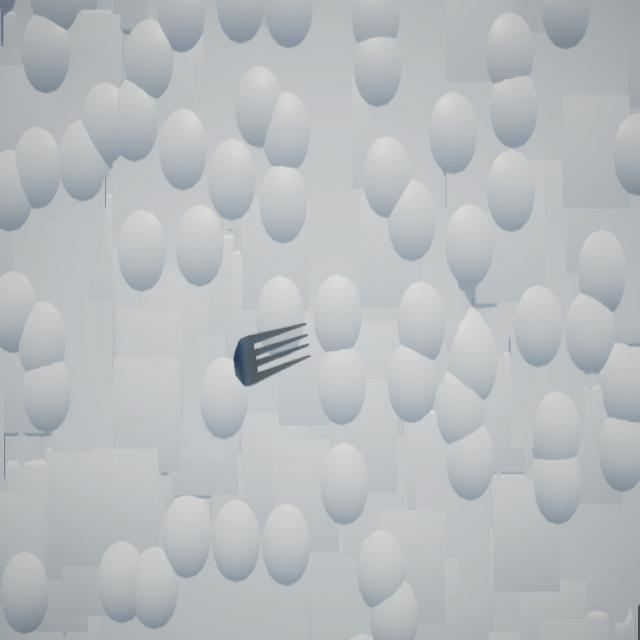top_folk: (234, 324, 311, 388)
